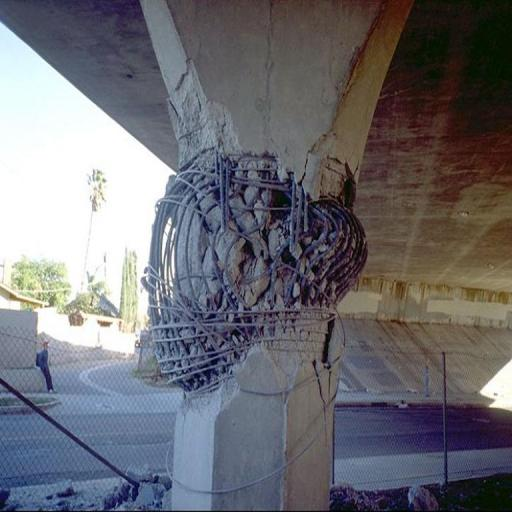spalling: (153, 153, 370, 397)
